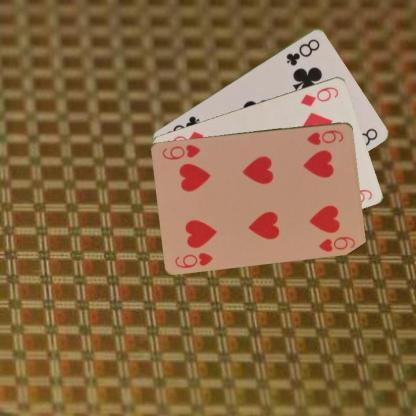6d: (298, 83, 340, 107)
6h: (172, 249, 214, 270), (304, 127, 345, 146)
8c: (283, 36, 321, 67)
